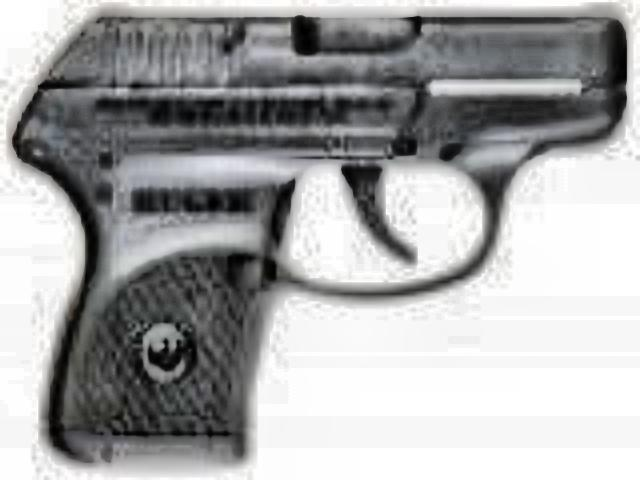pistol: (8, 0, 616, 468)
